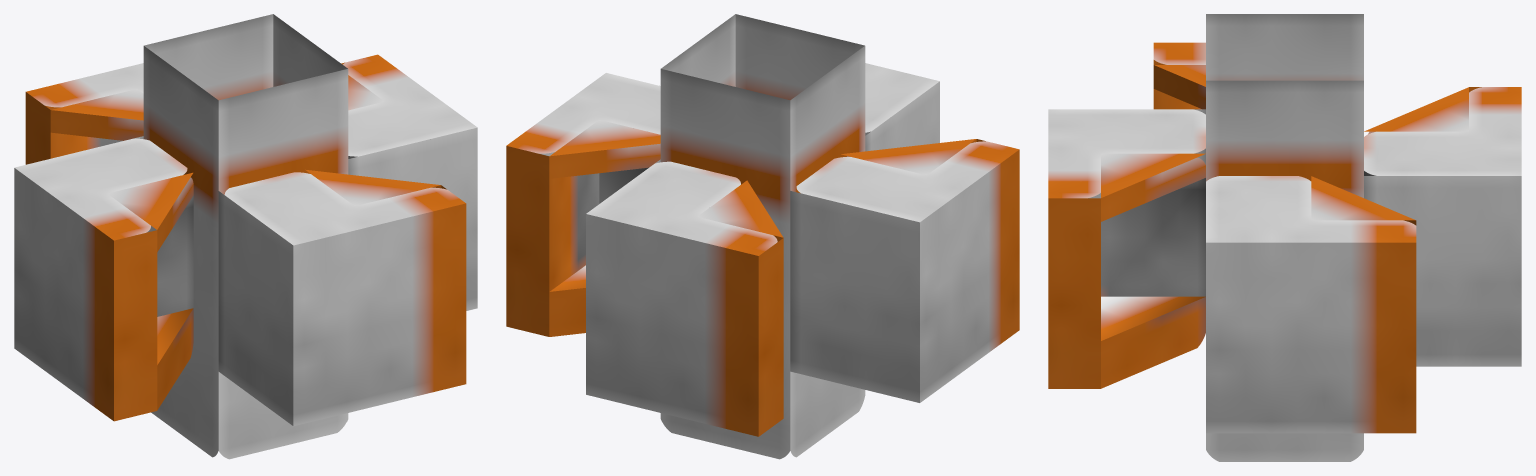
The model's file is crusher_1.obj.
The picture shows the model from 3 angles, left to right: view 1: azimuth 30°, elevation 25°; view 2: azimuth 150°, elevation 25°; view 3: azimuth 270°, elevation 25°; orthographic projection. The views are drawn at different scales.
Visible parts, largest first — view 1: round_cube.003; view 2: round_cube.003; view 3: round_cube.003.
Boxes of the visible parts, bbox=[...] form: round_cube.003: bbox=[14, 14, 477, 459]; round_cube.003: bbox=[506, 14, 1019, 459]; round_cube.003: bbox=[1048, 14, 1521, 461].
Size of the model in its own units: 1.12 by 1 by 1.12.
